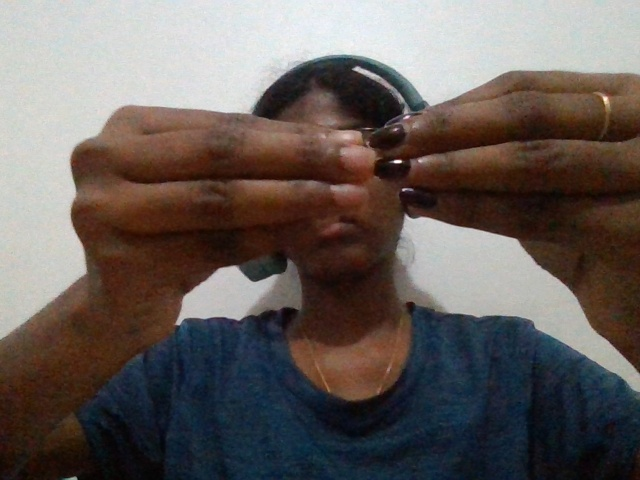More: (29, 51, 639, 391)
